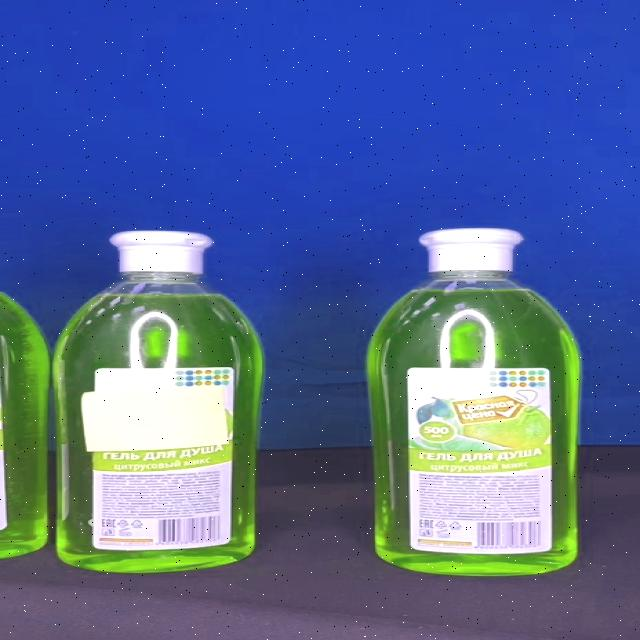Bottle: (368, 228, 579, 577), (53, 231, 263, 572)
Cap: (420, 228, 525, 272), (108, 231, 214, 274)
